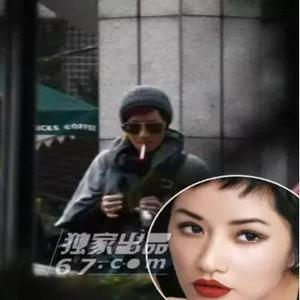cigarette: (139, 143, 145, 159)
